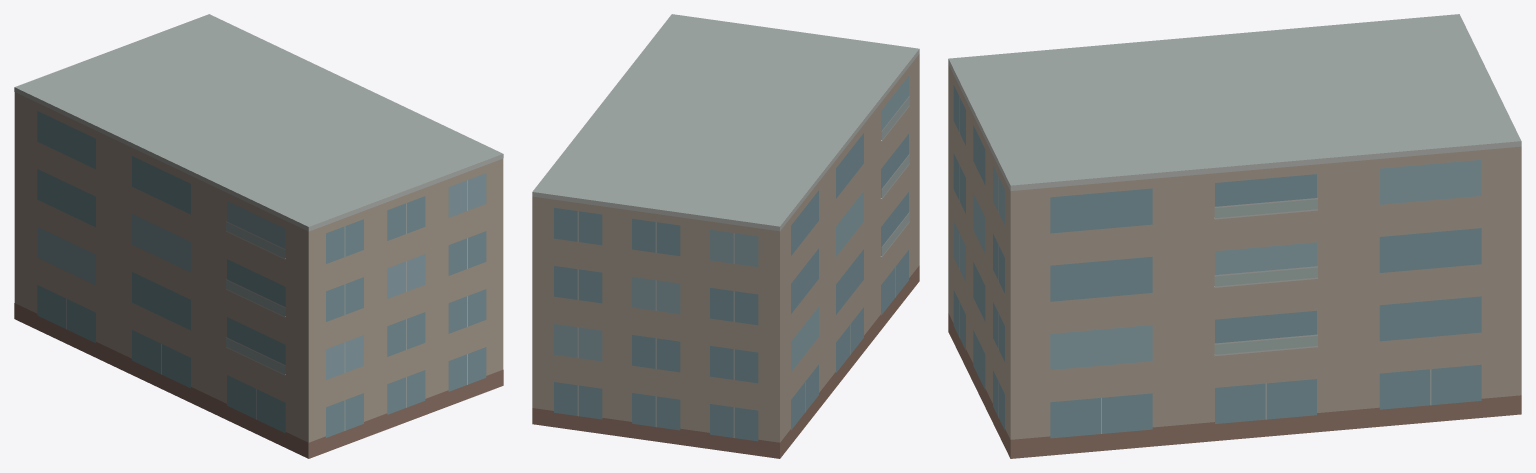
The model's file is residential-a9af3f05-028c-4549-a448-50249e1ccad6.glb.
The picture shows the model from 3 angles, left to right: view 1: azimuth 30°, elevation 25°; view 2: azimuth 150°, elevation 25°; view 3: azimuth 270°, elevation 25°; orthographic projection. The views are drawn at different scales.
Visible parts, largest first — view 1: residential-a9af3f05-028c-4549-a448-50249e1ccad6.tmp; view 2: residential-a9af3f05-028c-4549-a448-50249e1ccad6.tmp; view 3: residential-a9af3f05-028c-4549-a448-50249e1ccad6.tmp.
Part boxes in pixels (x1,y1,x2,y2): residential-a9af3f05-028c-4549-a448-50249e1ccad6.tmp: [14, 14, 503, 458]; residential-a9af3f05-028c-4549-a448-50249e1ccad6.tmp: [532, 14, 919, 458]; residential-a9af3f05-028c-4549-a448-50249e1ccad6.tmp: [948, 14, 1521, 458].
Bounding box in the file's own units: 16.44 × 12.2 × 23.2.
